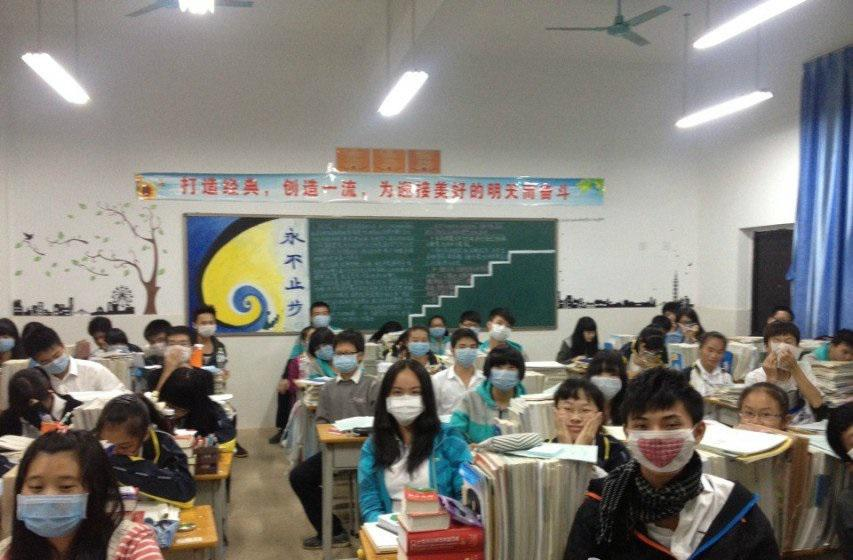NONE: (737, 402, 784, 449), (562, 400, 597, 439), (770, 335, 802, 367), (832, 345, 853, 367), (705, 345, 724, 369), (584, 329, 598, 345)
OK: (627, 406, 699, 478), (17, 469, 83, 535), (387, 382, 427, 425), (593, 369, 623, 402), (490, 364, 522, 393), (336, 347, 363, 376), (38, 349, 68, 375), (455, 337, 478, 367), (169, 336, 191, 363), (489, 318, 511, 343), (312, 341, 334, 363), (411, 335, 432, 358), (150, 337, 171, 359), (198, 315, 217, 339), (1, 333, 19, 357), (313, 308, 330, 330), (430, 321, 446, 338)
